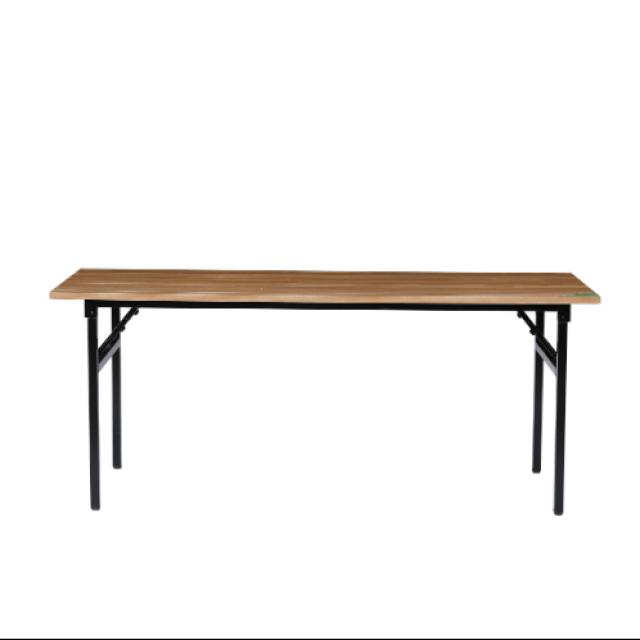table: (40, 245, 619, 538)
